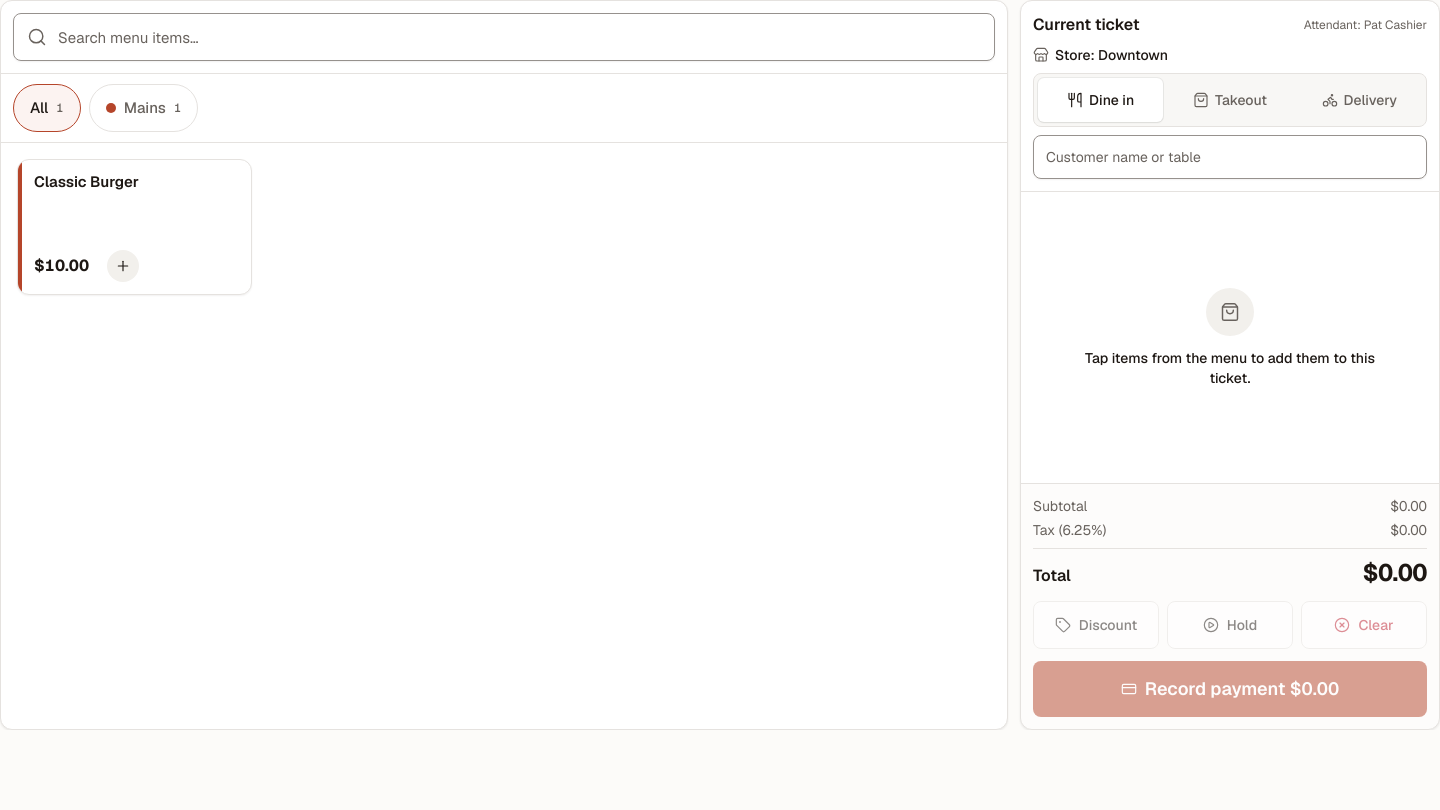
Test: POS sale outbox › repeated attempts always reuse the SAME key, then the confirmation clears the pending sale
This screenshot has width=1440, height=810.
Click the button with aria-label "Add Classic Burger,": (134, 227) x1=17 y1=159 x2=252 y2=295
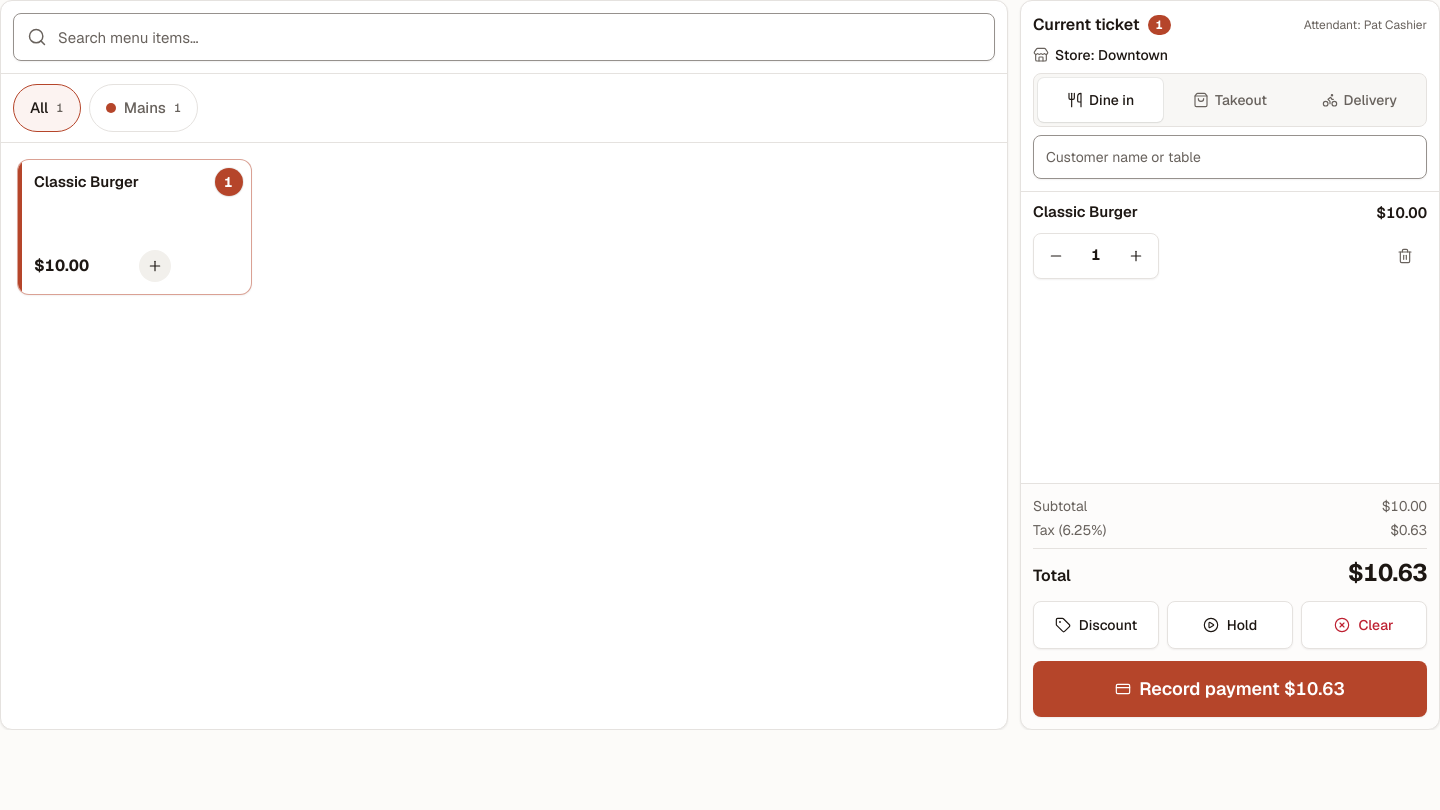
Click the button "Record payment $10.63": (1230, 689) x1=1033 y1=661 x2=1427 y2=717
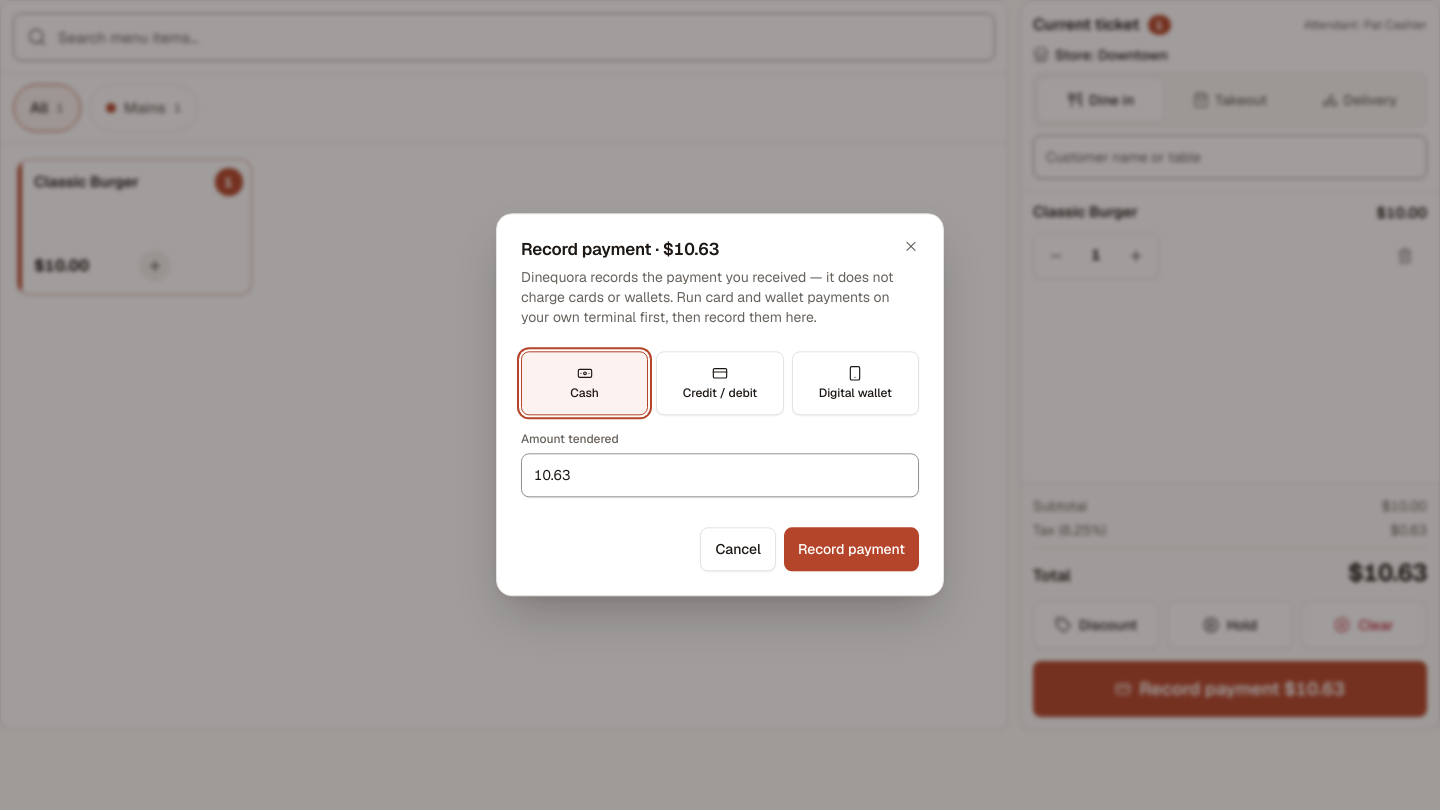
Click the button "Record payment": (852, 550) x1=784 y1=528 x2=919 y2=572
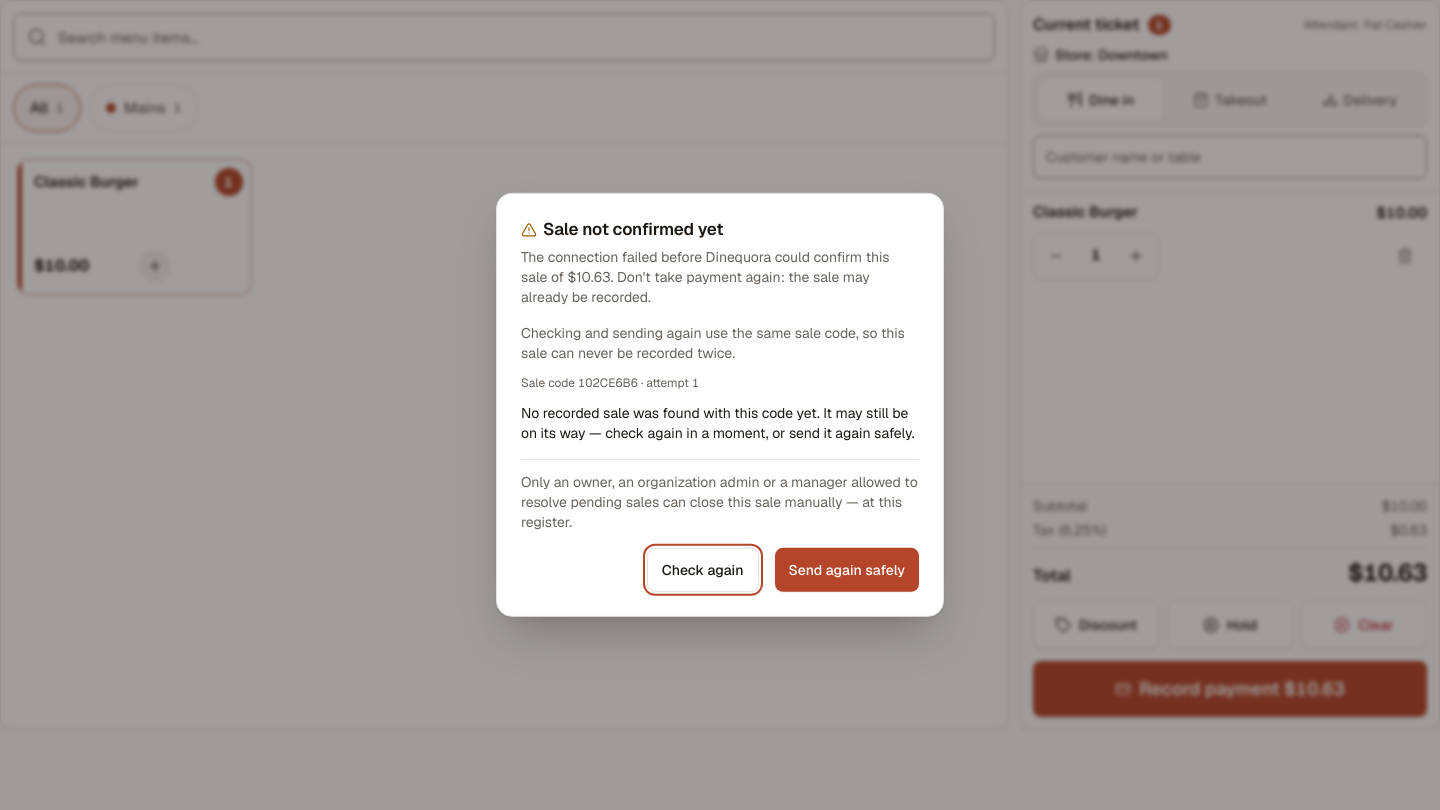
Click the button "Send again safely": (847, 570) x1=774 y1=548 x2=919 y2=592
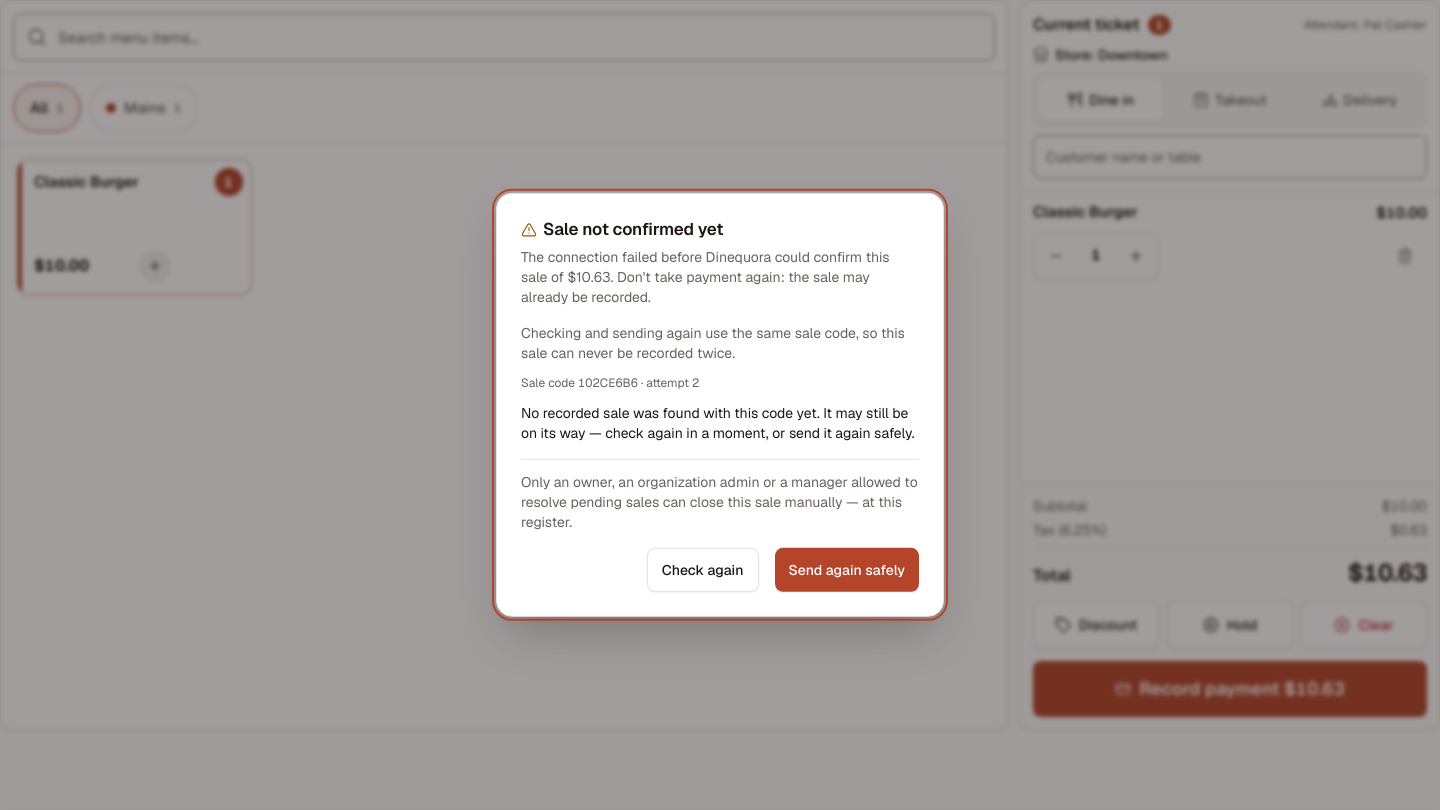
Now the button "Send again safely" is enabled
Click the button "Send again safely": (847, 570) x1=774 y1=548 x2=919 y2=592
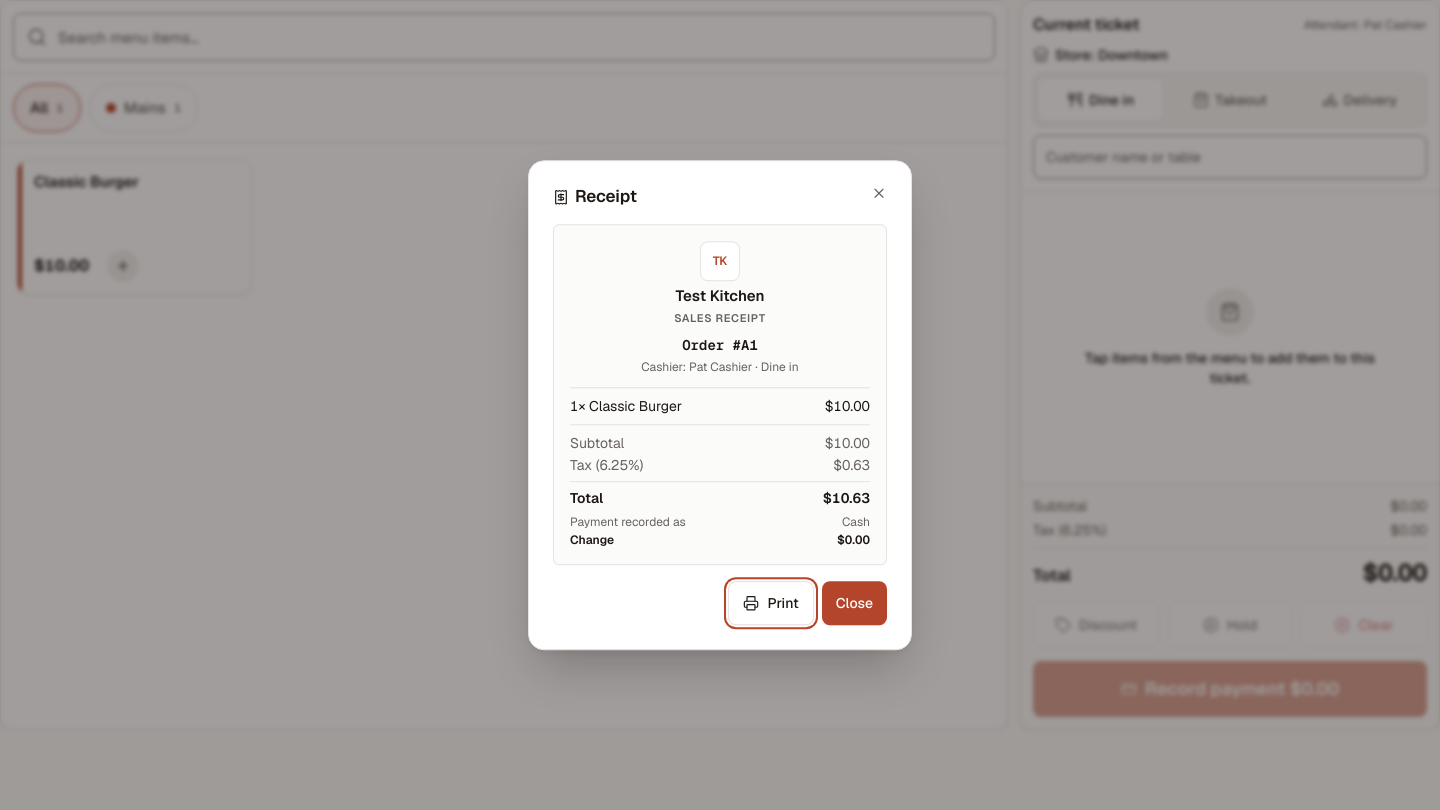
Now the heading "Sale not confirmed yet" is gone
